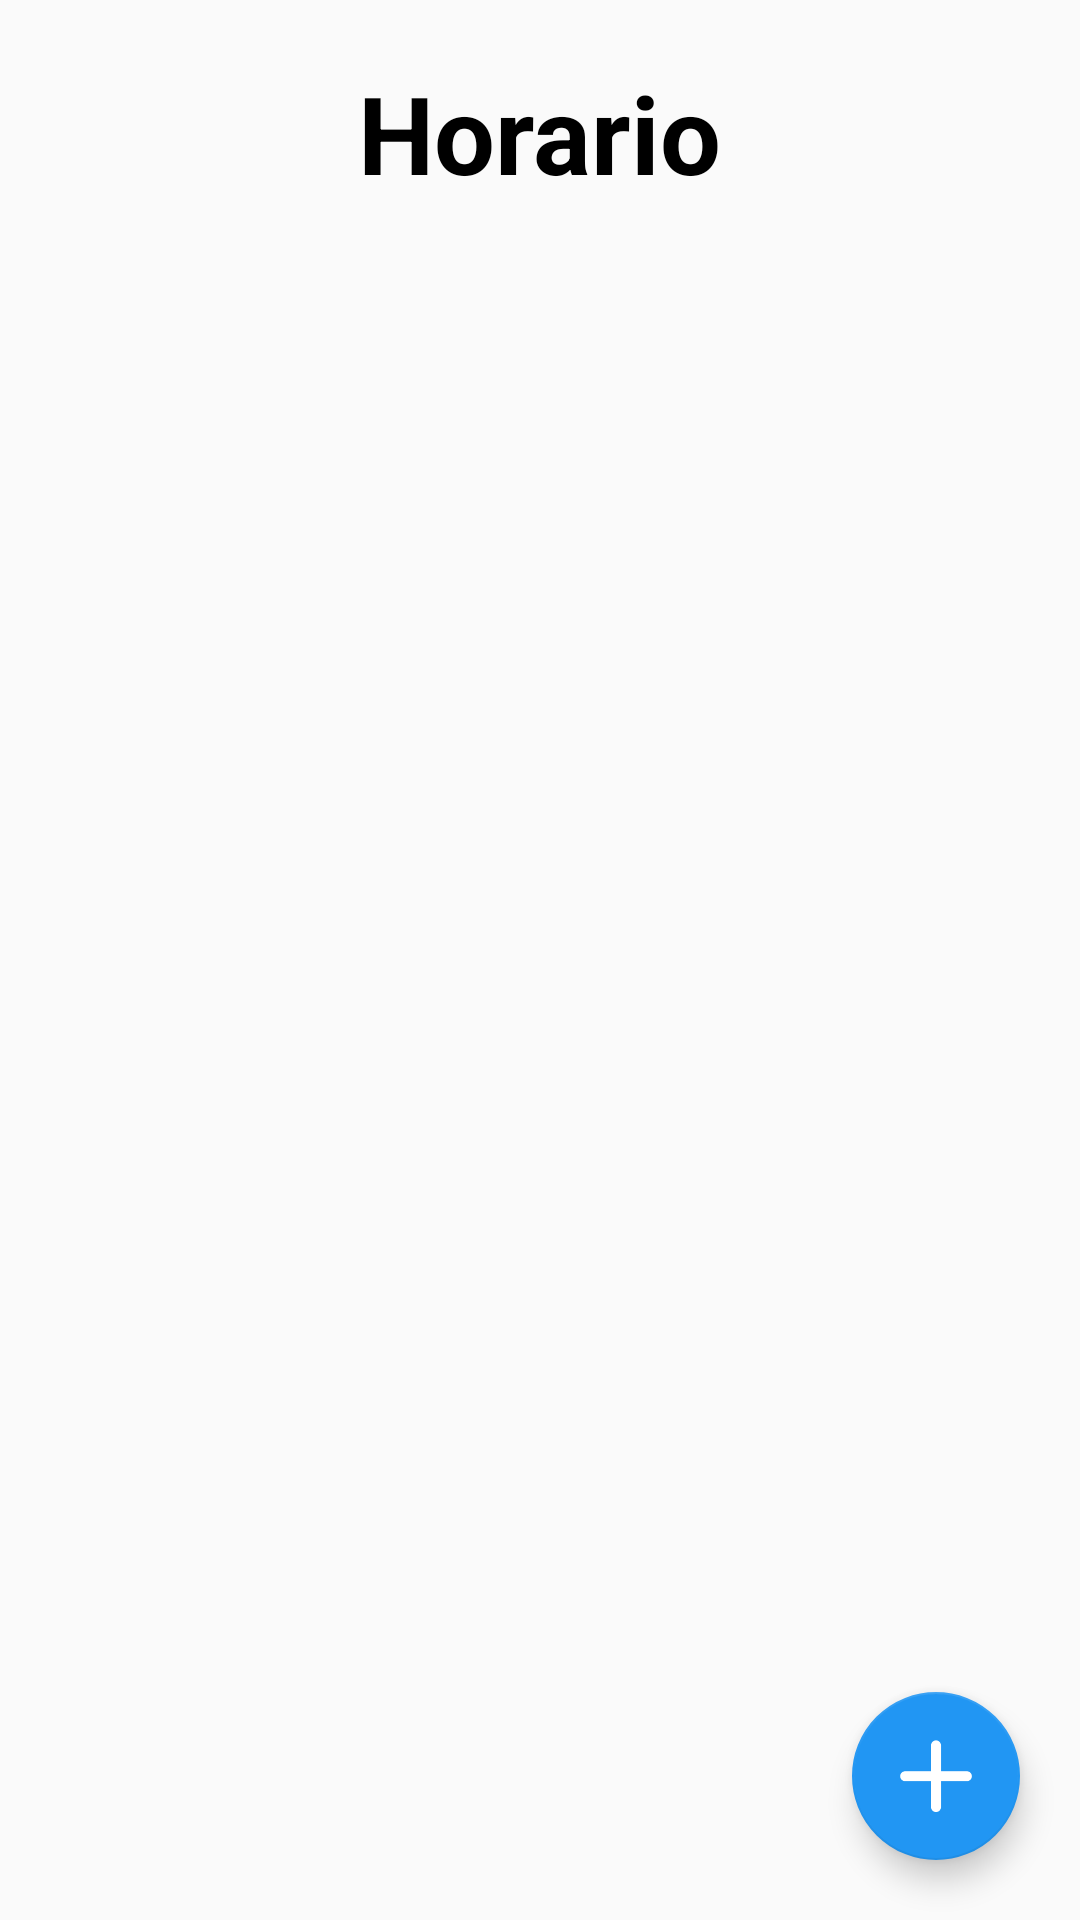

Named icons in this screenshot (1080px×1920px) and their bounding boxes, (x1, y1, x2, y2):
plus: (852, 1692, 1020, 1860)
